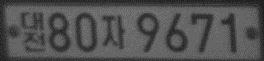0: (73, 12, 98, 53)
1: (219, 12, 242, 53)
6: (164, 12, 188, 52)
7: (190, 13, 215, 53)
8: (48, 12, 71, 52)
9: (136, 11, 160, 53)
대전_V: (19, 11, 46, 53)
자: (102, 14, 127, 49)
